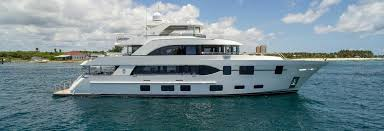tau_dansu: (59, 17, 319, 97)
